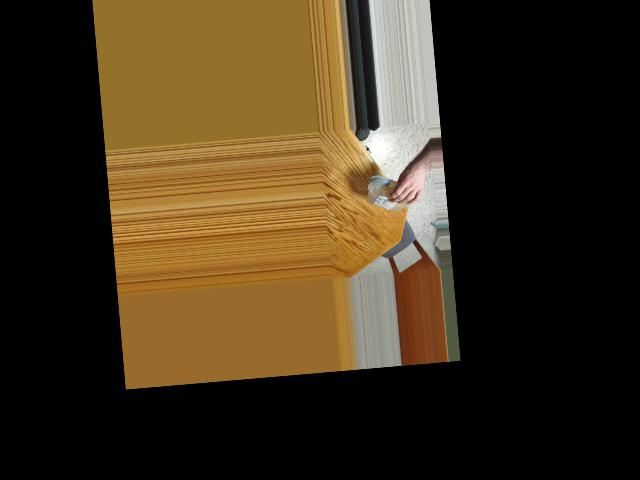cheese: (370, 177, 409, 210)
